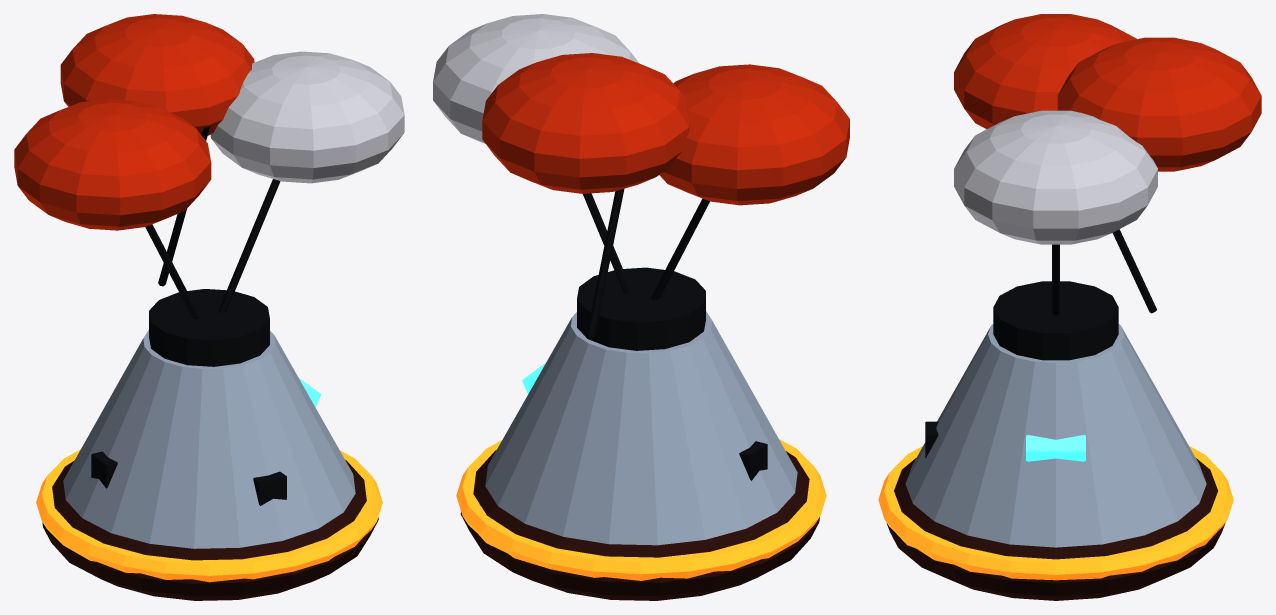
Rendered from orion_reentry_capsule.glb.
3 views of the same model, side by side, from view 1: azimuth 30°, elevation 25°; view 2: azimuth 150°, elevation 25°; view 3: azimuth 270°, elevation 25° (orthographic). The views are drawn at different scales.
Visible parts, largest first — view 1: OrionReentryCapsule; view 2: OrionReentryCapsule; view 3: OrionReentryCapsule.
Boxes of the visible parts, x1,y1,x2,y2 form: OrionReentryCapsule: (14, 14, 404, 600); OrionReentryCapsule: (433, 14, 849, 600); OrionReentryCapsule: (878, 14, 1261, 600).
Bounding box in the file's own units: 1.57 × 2.07 × 1.41.
